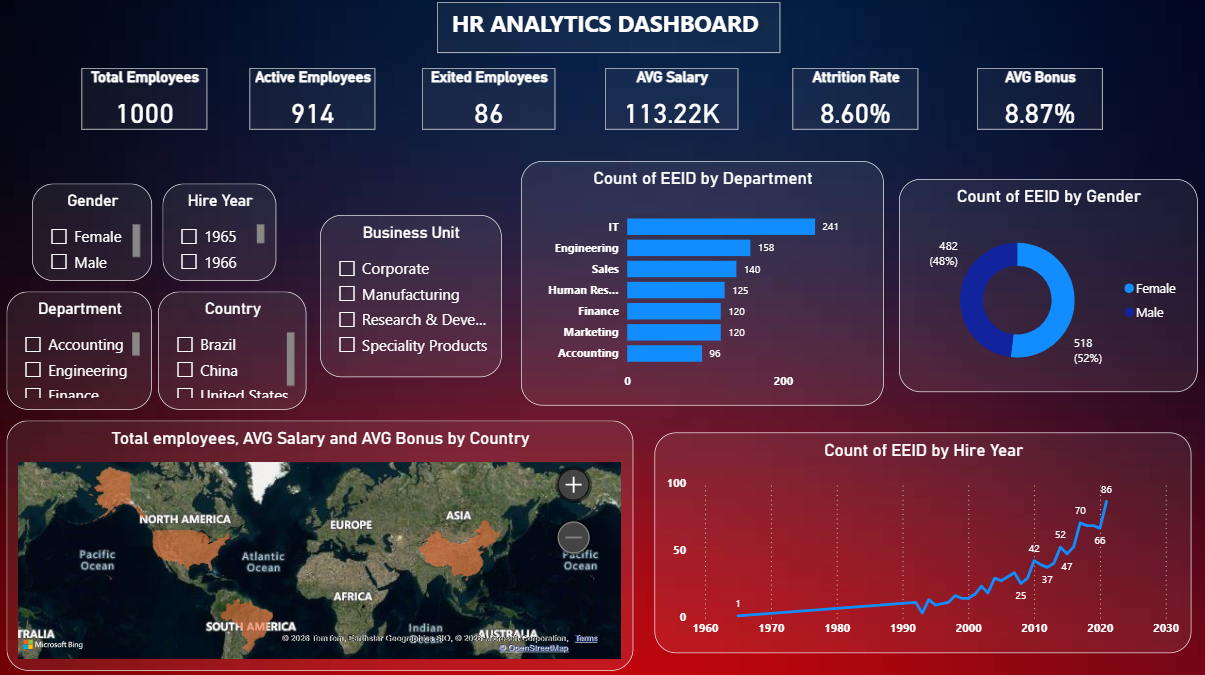

The page's visual inventory and layout, read from the dashboard file:
{"tool":"powerbi","page":{"name":"Page 1","canvas":[1280,720],"ordinal":0},"visuals":[{"type":"barChart","fields":{"Category":["Employee.Department"],"Y":["CountNonNull(Employee.EEID)"]},"box":[553.5,175,384.9,259.3],"z":0},{"type":"card","title":"Total Employees","fields":{"Values":["Employee.Total employees"]},"box":[87.5,76.3,133.6,65.2],"z":1000},{"type":"card","title":"Active Employees","fields":{"Values":["Employee.Active Employees"]},"box":[265.6,76.3,133.6,65.2],"z":2000},{"type":"card","title":"Exited Employees","fields":{"Values":["Employee.Exited Employees"]},"box":[448.6,76.3,141.6,65.2],"z":3000},{"type":"card","title":"AVG Salary","fields":{"Values":["Employee.AVG Salary"]},"box":[642.6,76.3,141.6,65.2],"z":4000},{"type":"card","title":"AVG Bonus","fields":{"Values":["Employee.AVG Bonus"]},"box":[1037.1,76.3,133.6,65.2],"z":5000},{"type":"card","title":"Attrition Rate","fields":{"Values":["Employee.Attrition Rate"]},"box":[841.4,76.3,133.6,65.2],"z":6000},{"type":"donutChart","fields":{"Category":["Employee.Gender"],"Y":["CountNonNull(Employee.EEID)"]},"box":[954.4,194.1,316.5,225.9],"z":7000},{"type":"lineChart","fields":{"Y":["CountNonNull(Employee.EEID)"],"Category":["Employee.Hire Year"]},"box":[695.1,462.9,569.4,233.8],"z":8000},{"type":"filledMap","fields":{"Category":["Employee.Country"]},"box":[8,450.1,664.9,265.6],"z":9000},{"type":"slicer","title":"Department","fields":{"Values":["Employee.Department"]},"box":[8,313.4,154.3,125.7],"z":10000},{"type":"slicer","title":"Country","fields":{"Values":["Employee.Country"]},"box":[168.6,313.4,157.5,125.7],"z":11000},{"type":"slicer","title":"Gender ","fields":{"Values":["Employee.Gender"]},"box":[35,198.8,127.2,103.4],"z":12000},{"type":"slicer","title":"Business Unit","fields":{"Values":["Employee.Business Unit"]},"box":[340.4,232.2,192.5,171.8],"z":13000},{"type":"slicer","title":"Hire Year","fields":{"Values":["DateTable.Year"]},"box":[173.4,198.8,120.9,103.4],"z":14000},{"type":"textbox","box":[464.5,6.4,364.2,54.1],"z":15000}]}

Visuals, with their boxes in screenshot pixels (x1, y1, x2, y2), scaled from the page's 1280x720 canvas onto the 1205x675 screenshot:
barChart - Employee.Department x CountNonNull(Employee.EEID): {"left": 521, "top": 164, "right": 883, "bottom": 407}
"Total Employees" card: {"left": 82, "top": 72, "right": 208, "bottom": 133}
"Active Employees" card: {"left": 250, "top": 72, "right": 376, "bottom": 133}
"Exited Employees" card: {"left": 422, "top": 72, "right": 556, "bottom": 133}
"AVG Salary" card: {"left": 605, "top": 72, "right": 738, "bottom": 133}
"AVG Bonus" card: {"left": 976, "top": 72, "right": 1102, "bottom": 133}
"Attrition Rate" card: {"left": 792, "top": 72, "right": 918, "bottom": 133}
donutChart - Employee.Gender x CountNonNull(Employee.EEID): {"left": 898, "top": 182, "right": 1196, "bottom": 394}
lineChart - CountNonNull(Employee.EEID) x Employee.Hire Year: {"left": 654, "top": 434, "right": 1190, "bottom": 653}
filledMap - Employee.Country: {"left": 8, "top": 422, "right": 633, "bottom": 671}
"Department" slicer: {"left": 8, "top": 294, "right": 153, "bottom": 412}
"Country" slicer: {"left": 159, "top": 294, "right": 307, "bottom": 412}
"Gender " slicer: {"left": 33, "top": 186, "right": 153, "bottom": 283}
"Business Unit" slicer: {"left": 320, "top": 218, "right": 502, "bottom": 379}
"Hire Year" slicer: {"left": 163, "top": 186, "right": 277, "bottom": 283}
textbox: {"left": 437, "top": 6, "right": 780, "bottom": 57}
